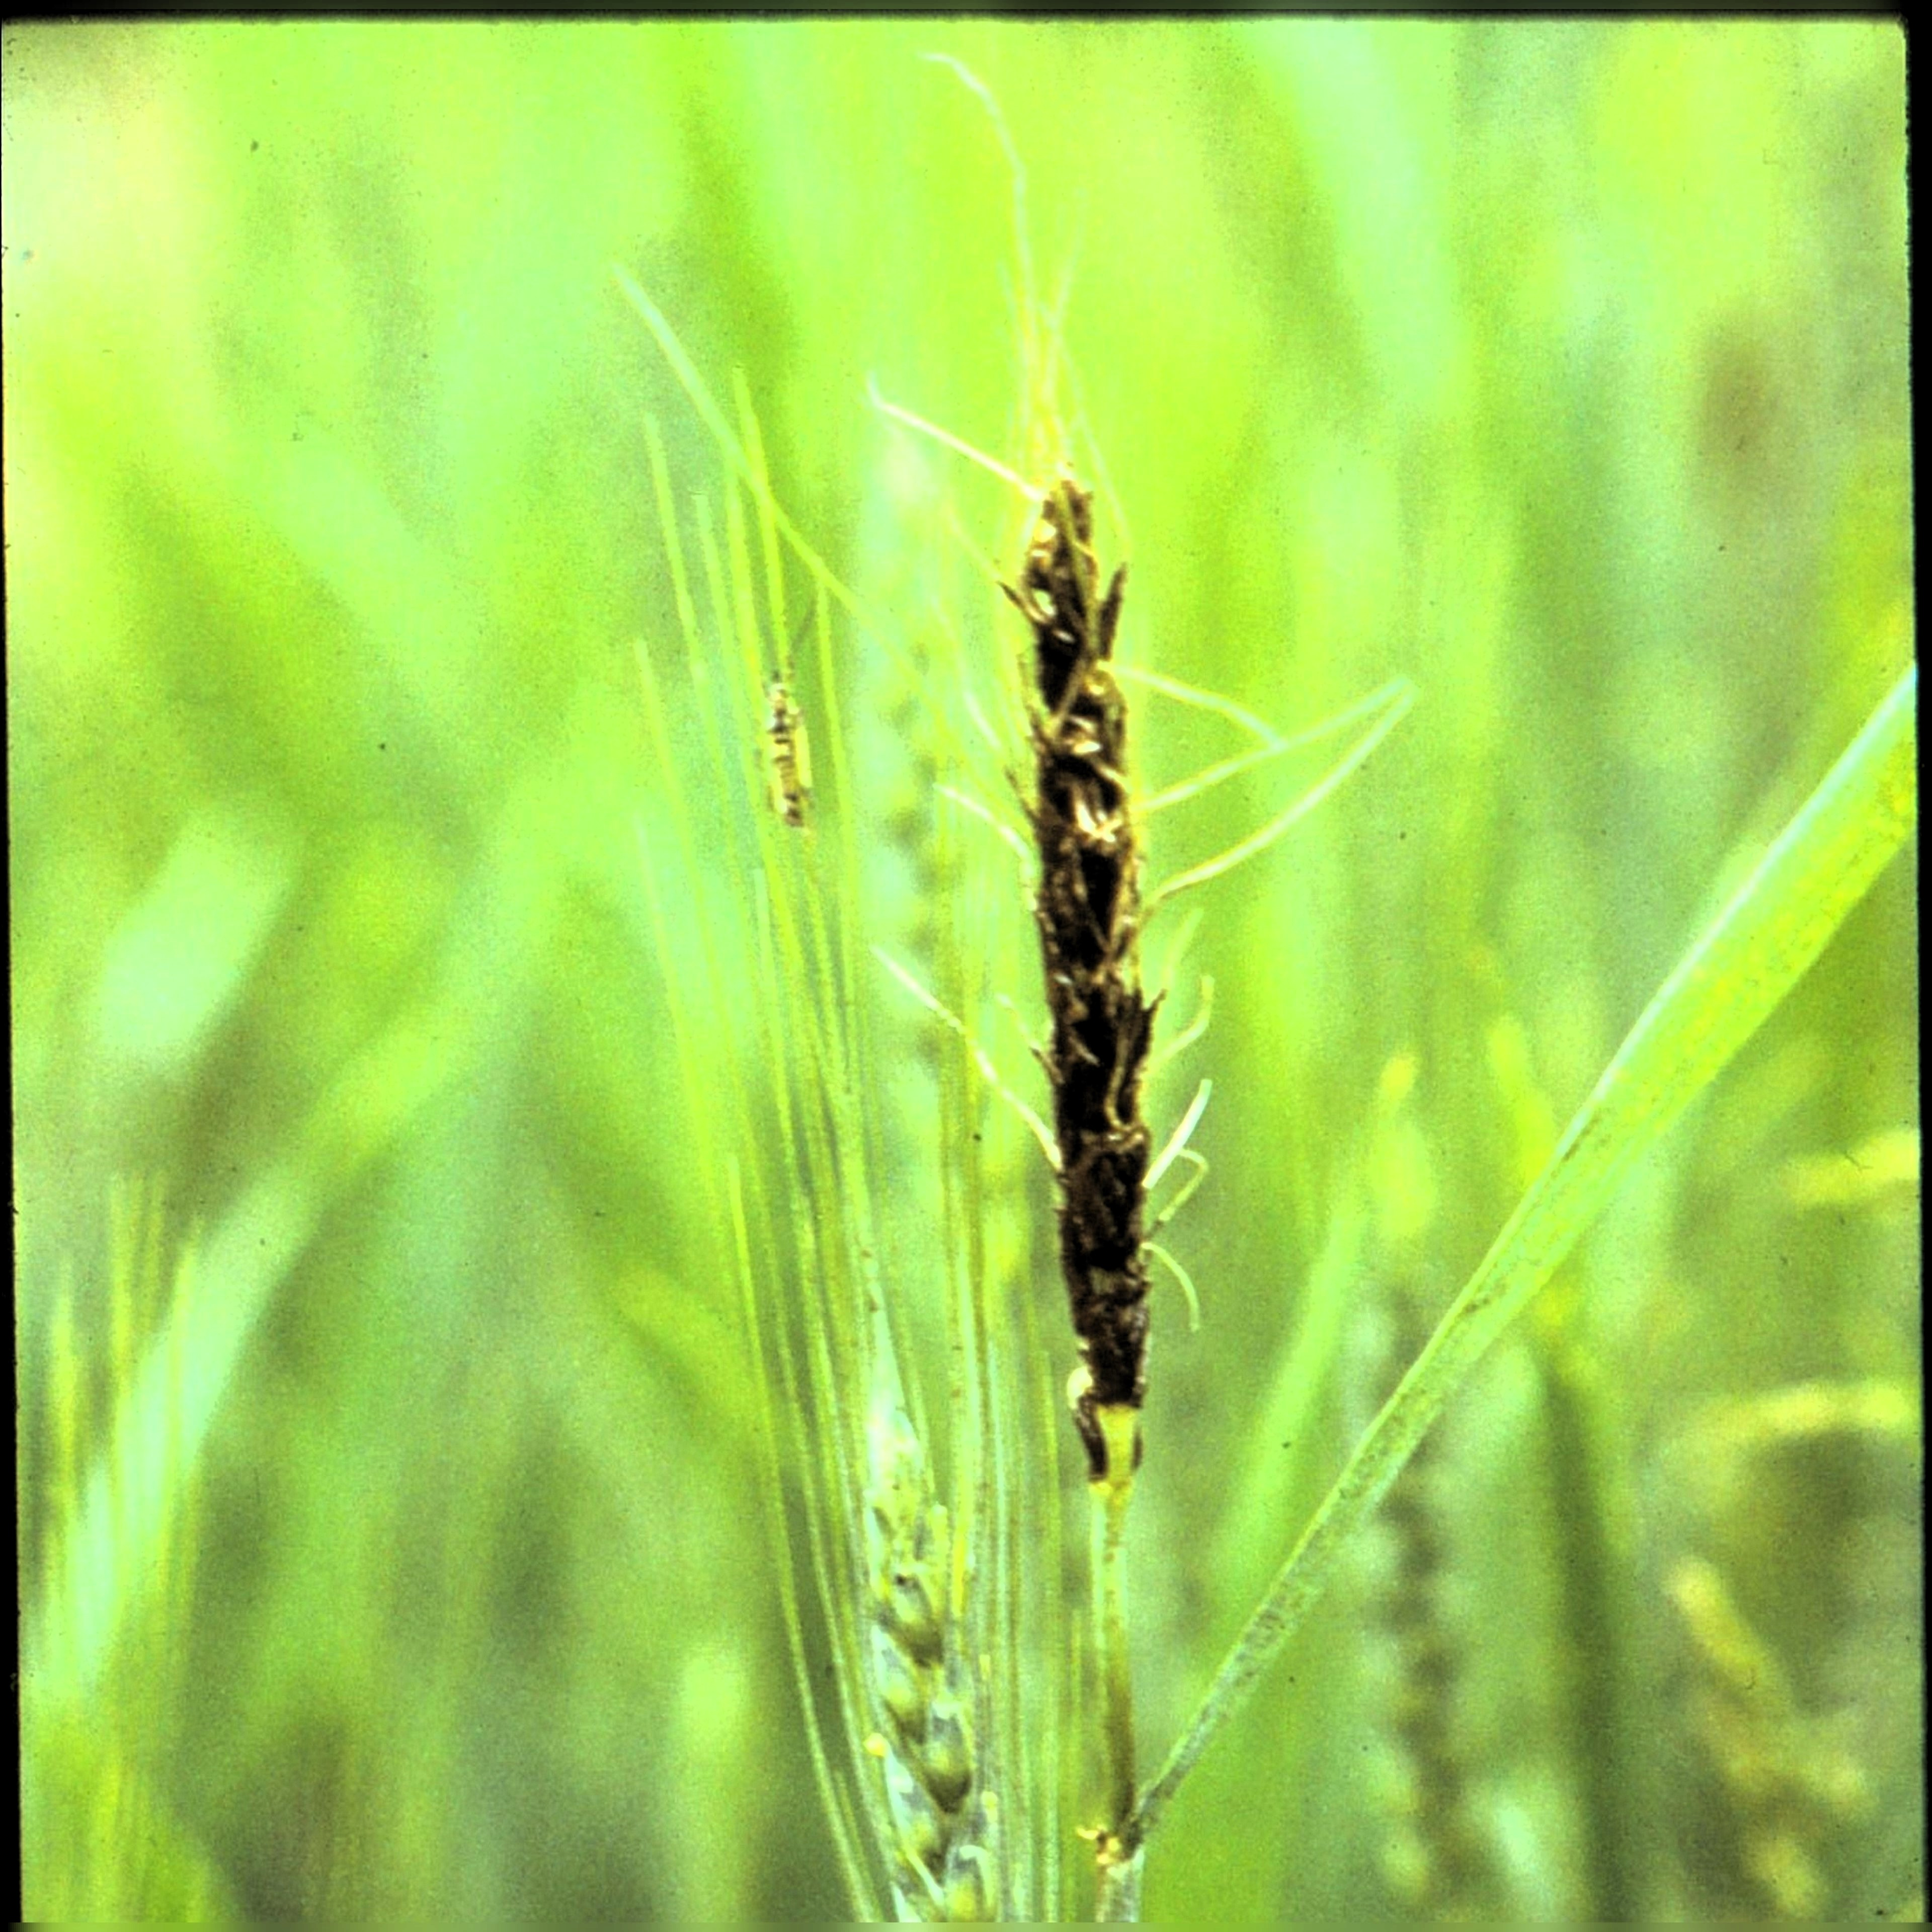Wheat Loose Smut: (961, 471, 1242, 1403)
